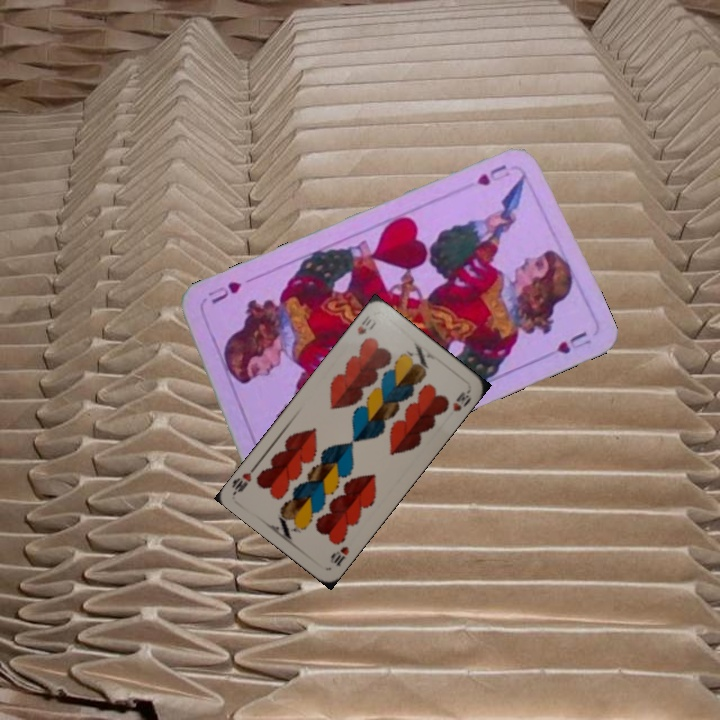H10: (326, 542, 352, 569), (353, 312, 379, 338)
HU: (472, 160, 513, 189)
